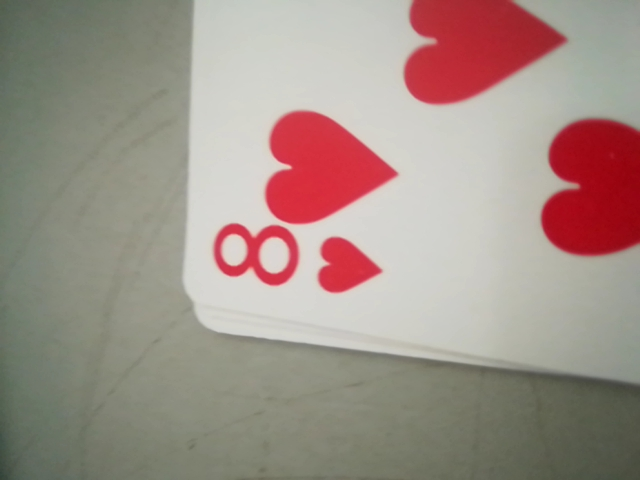hx 8: (205, 218, 400, 308)
